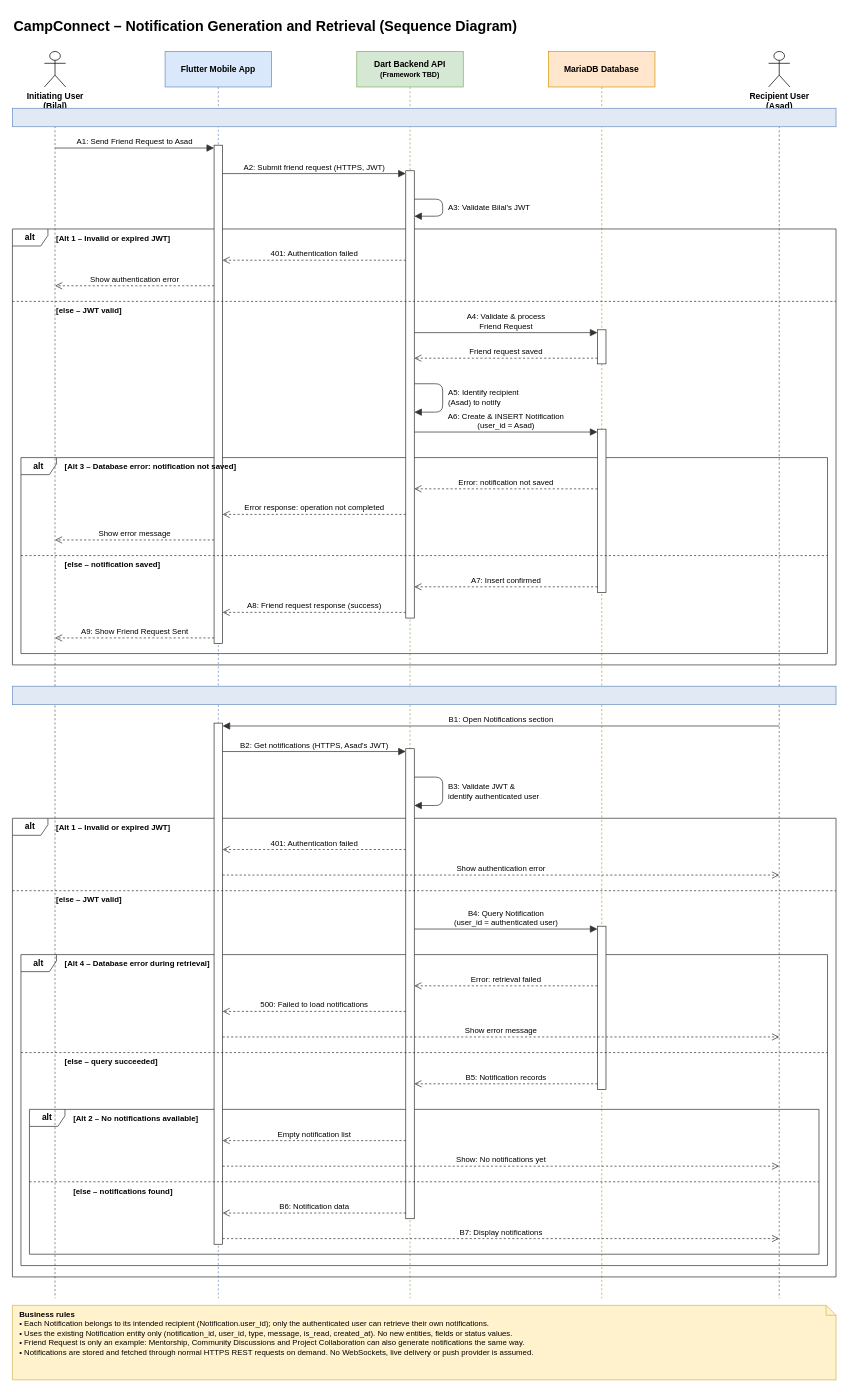
Image size: 849x1392. Some labels were removed from this diagram. The shapes that lost their labels are listed below. From the top down, each one's centre as x and y in pixels, then its label:
point (424, 117): PART A — Notification Generation (example: Friend Request)
point (424, 695): PART B — Notification Retrieval
